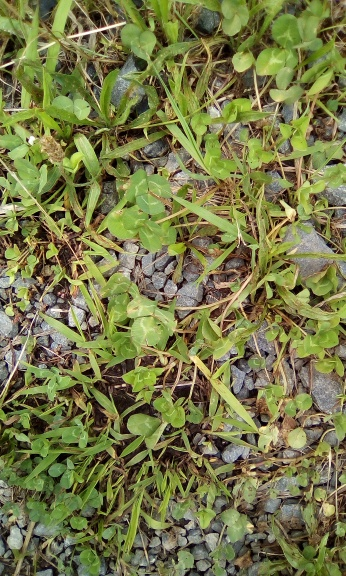4leaf: (121, 365, 165, 393), (153, 396, 186, 428)
